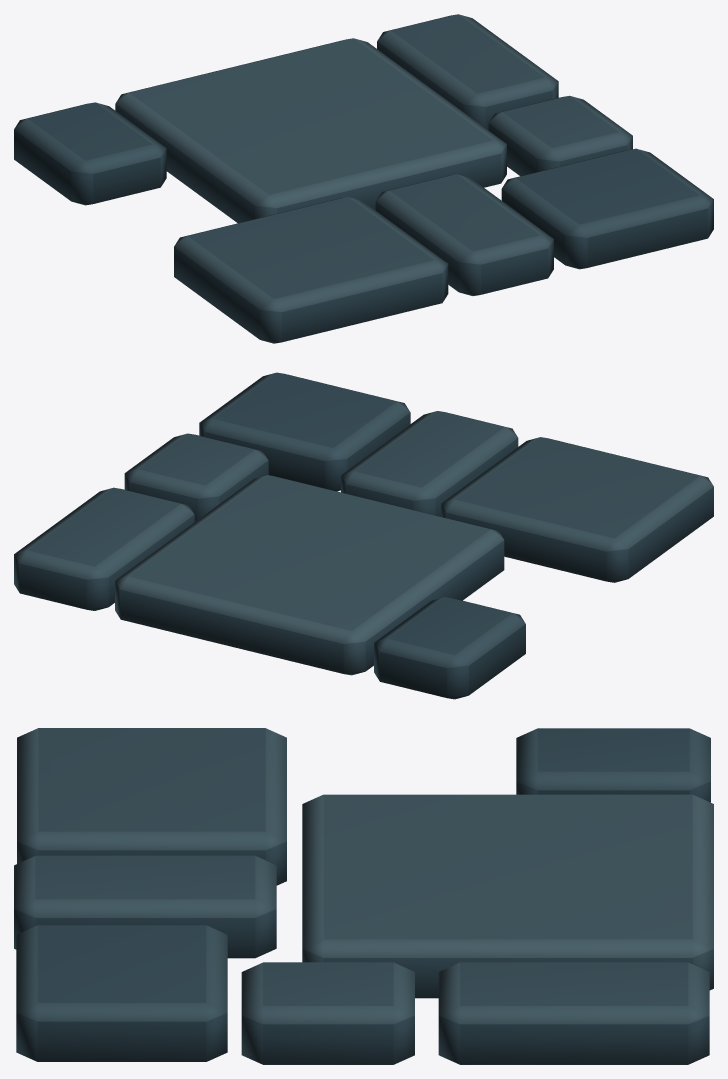
Rendered from stone_path_1.fbx.
3 views of the same model, one above another, from view 1: azimuth 30°, elevation 25°; view 2: azimuth 150°, elevation 25°; view 3: azimuth 270°, elevation 25° (orthographic). The views are drawn at different scales.
Visible parts, largest first — view 1: stone_path_1; view 2: stone_path_1; view 3: stone_path_1.
Part boxes in pixels (x1,y1,x2,y2): stone_path_1: (14,14,713,343); stone_path_1: (14,372,713,699); stone_path_1: (14,728,713,1064).
Size of the model in its own units: 196 by 18.28 by 196.
